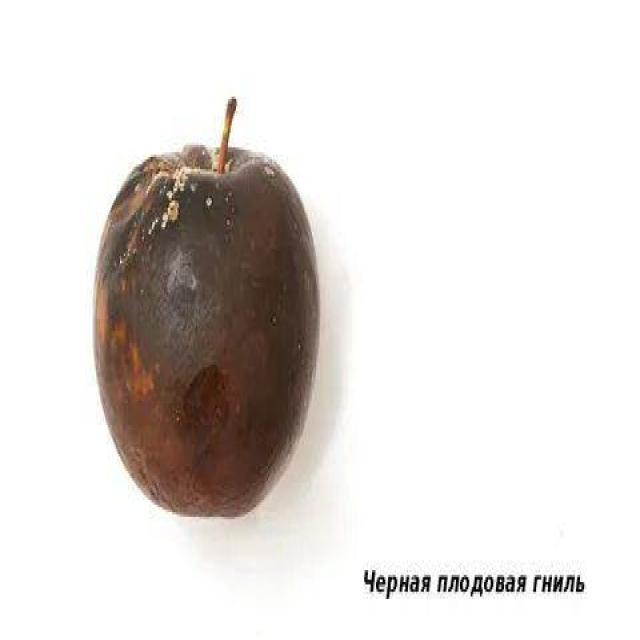rotten apple: (73, 61, 329, 568)
